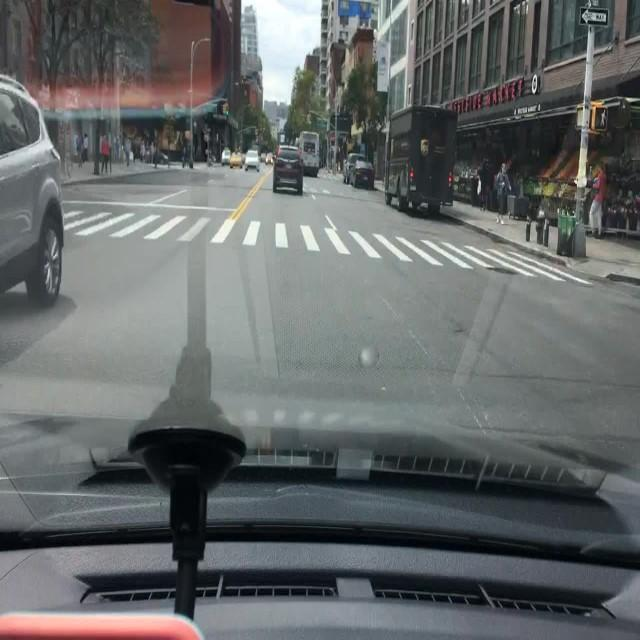normal: (1, 70, 67, 302), (271, 149, 305, 196), (341, 152, 374, 186)
